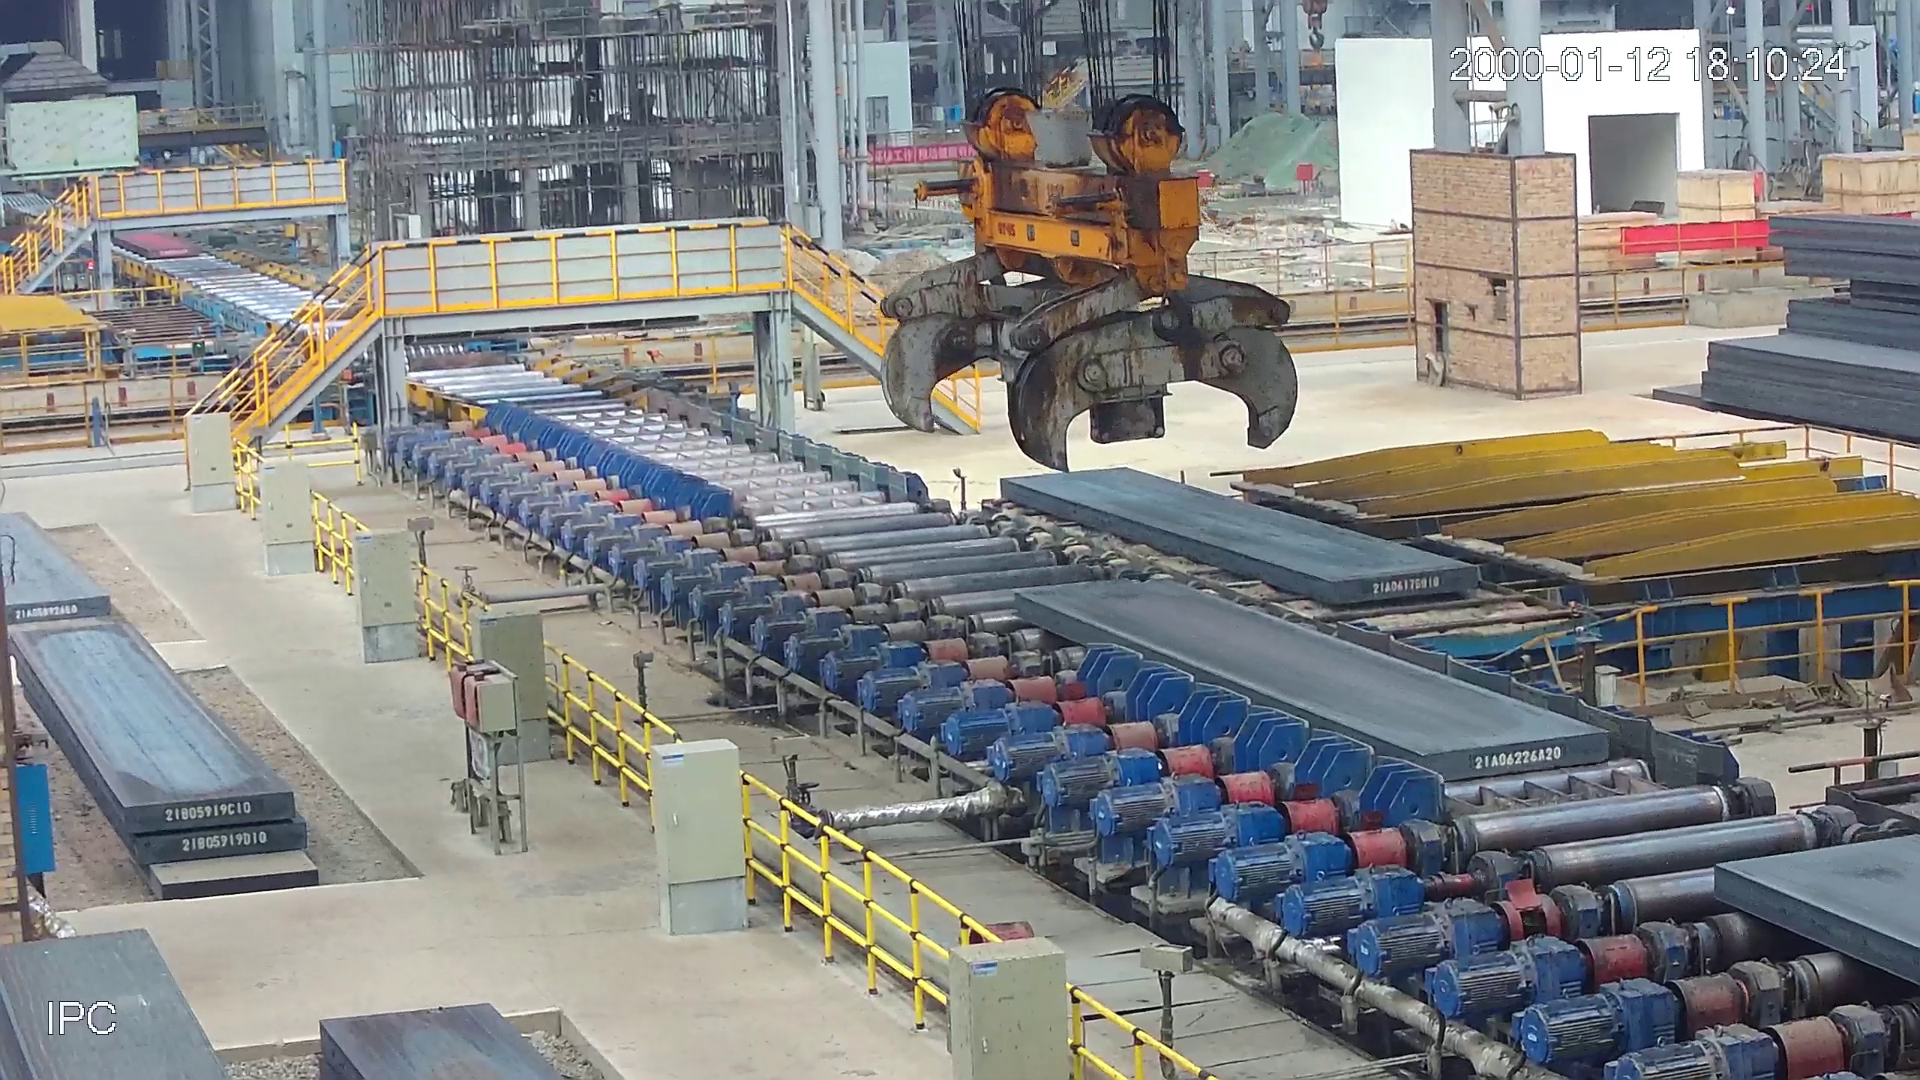crane: (872, 63, 1323, 488)
slab: (1007, 572, 1617, 786), (994, 455, 1482, 611), (107, 225, 208, 261)
